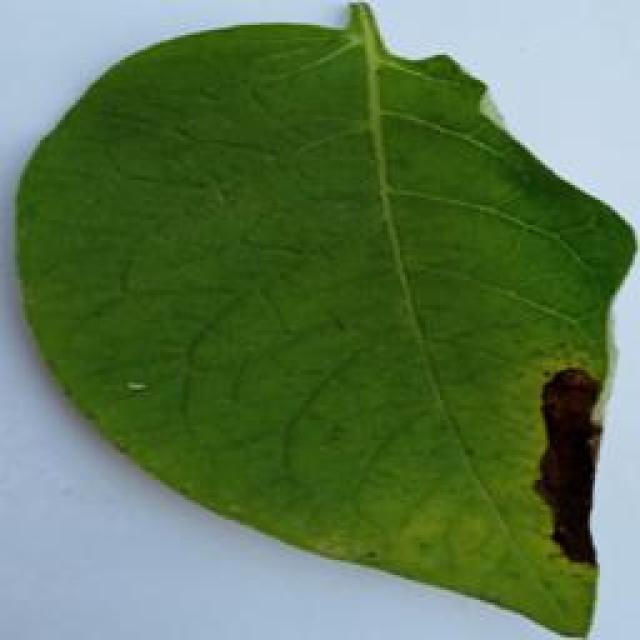Potato_Late_Blight: (15, 6, 623, 635)
